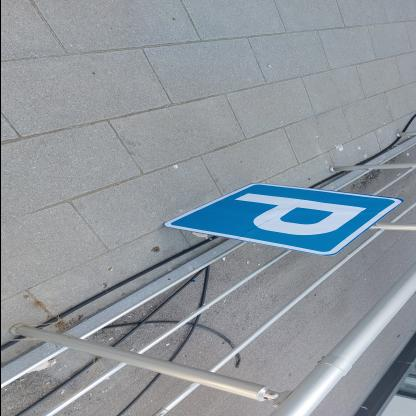Parking-Sign: (162, 185, 404, 257)
